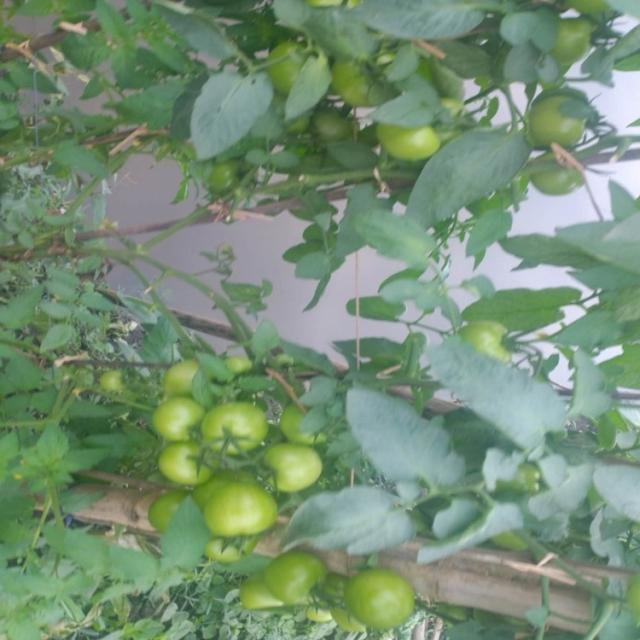tomato: (338, 563, 427, 634), (199, 476, 285, 540), (243, 440, 339, 493), (325, 55, 396, 120), (460, 311, 528, 376), (143, 401, 213, 461), (207, 403, 278, 462), (372, 119, 450, 171), (525, 92, 588, 150), (255, 34, 324, 85), (269, 546, 332, 599), (163, 442, 221, 493), (549, 12, 589, 68), (532, 155, 584, 198), (238, 570, 290, 611), (307, 102, 358, 135), (148, 493, 190, 531), (201, 159, 256, 186), (165, 355, 197, 401)
